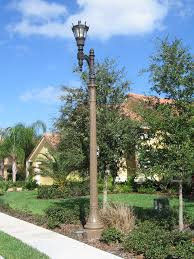light_pole: (83, 44, 134, 252)
